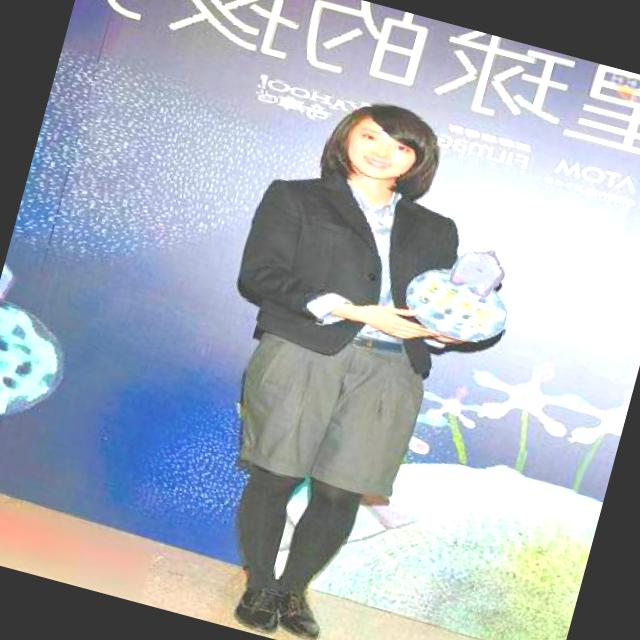Person: (119, 45, 595, 640)
